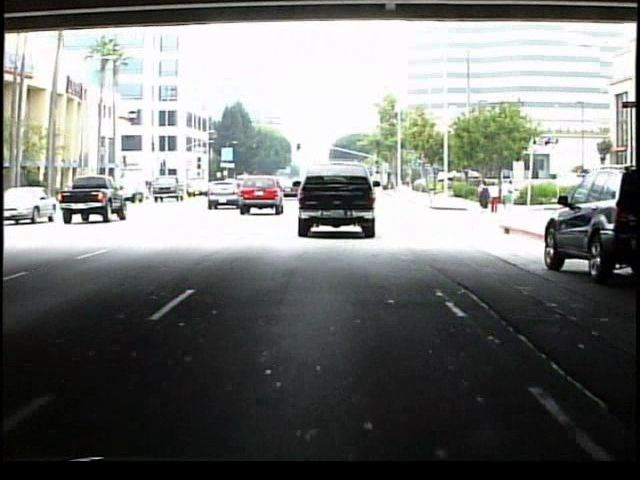person: (502, 178, 518, 217), (477, 179, 491, 216), (490, 181, 503, 214)
